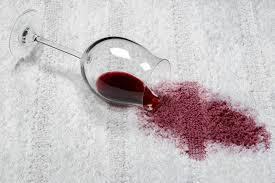oil: (140, 81, 261, 161)
